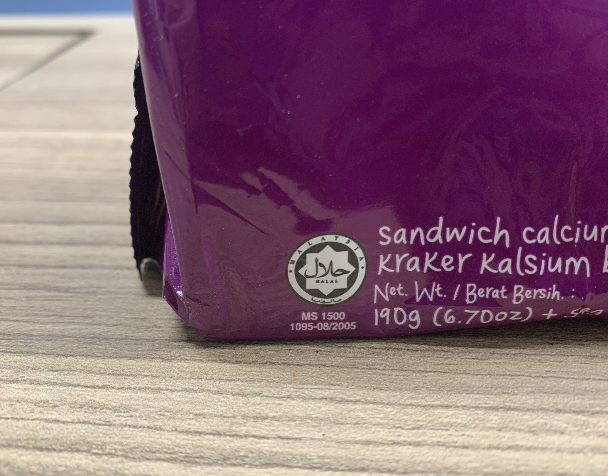halal: (301, 245, 354, 297)
